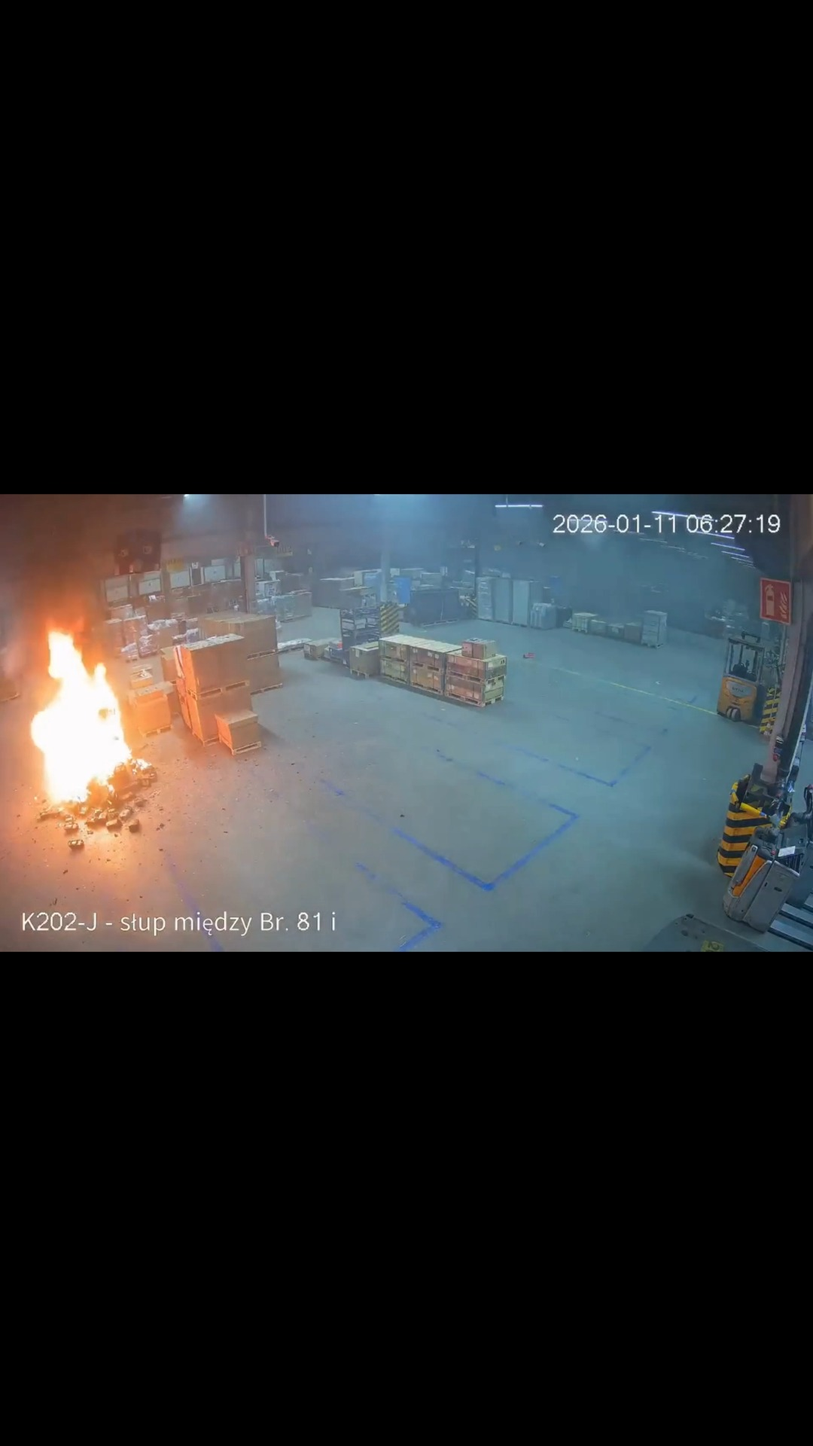fire: (29, 619, 148, 816)
smoke: (1, 496, 193, 689)
